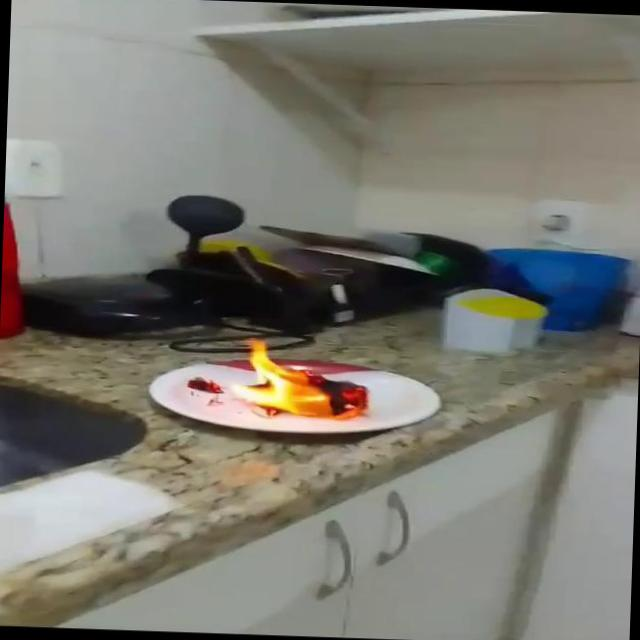Fire: (225, 336, 378, 424)
